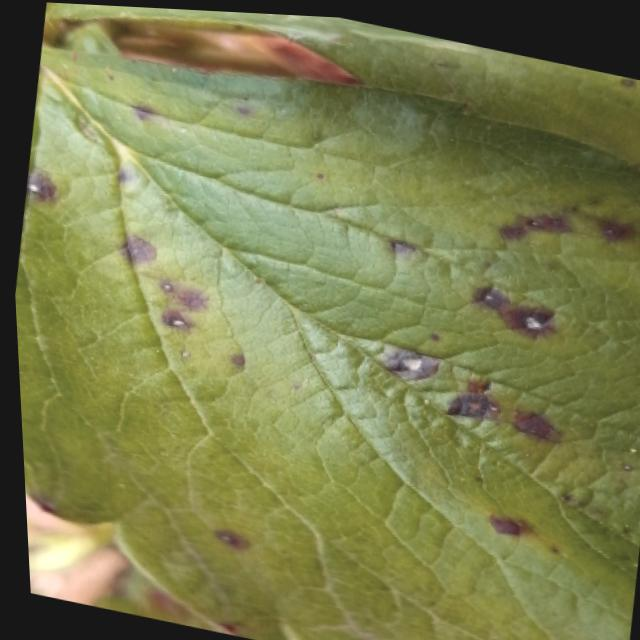Leaf Spot: (12, 44, 640, 640), (286, 27, 640, 157), (44, 2, 449, 37)
